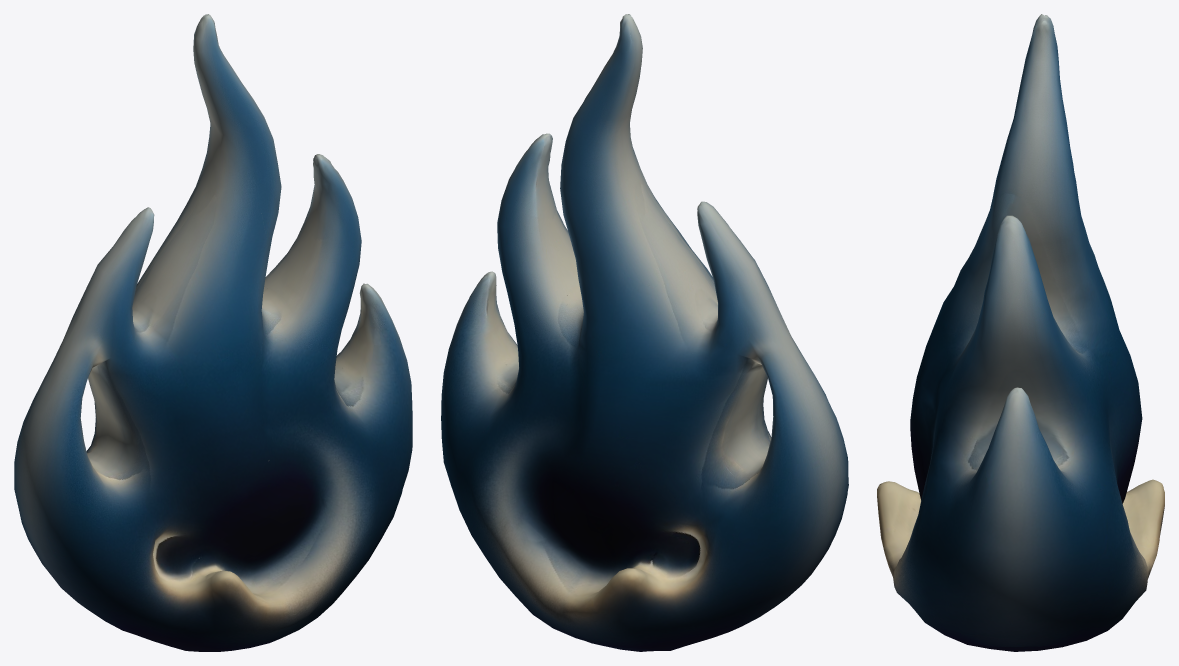
The model's file is mavialev.glb.
3 renders of one model, left to right at view 1: azimuth 30°, elevation 25°; view 2: azimuth 150°, elevation 25°; view 3: azimuth 270°, elevation 25°, orthographic. The views are drawn at different scales.
Parts seen in each view (by area): view 1: tripo_node_91f06ee1-23bc-469c-b159-af4d4488cad6; view 2: tripo_node_91f06ee1-23bc-469c-b159-af4d4488cad6; view 3: tripo_node_91f06ee1-23bc-469c-b159-af4d4488cad6.
Boxes of the visible parts, x1=… form: tripo_node_91f06ee1-23bc-469c-b159-af4d4488cad6: x1=14, y1=14, x2=412, y2=651; tripo_node_91f06ee1-23bc-469c-b159-af4d4488cad6: x1=441, y1=14, x2=848, y2=651; tripo_node_91f06ee1-23bc-469c-b159-af4d4488cad6: x1=877, y1=14, x2=1164, y2=651.
Bounding box in the file's own units: 0.6465 × 0.998 × 0.4238.
1 material, 1 textured.
